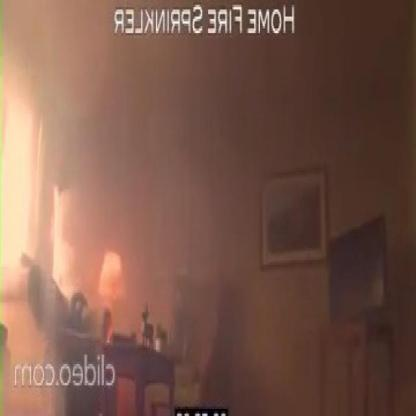Fire: (108, 321, 113, 343)
